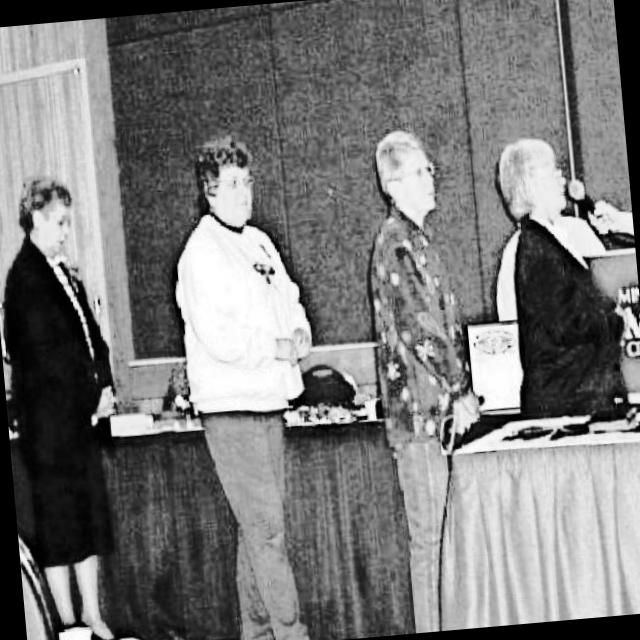Person: (159, 126, 335, 640), (352, 118, 508, 634), (0, 162, 131, 640), (495, 129, 640, 420)
